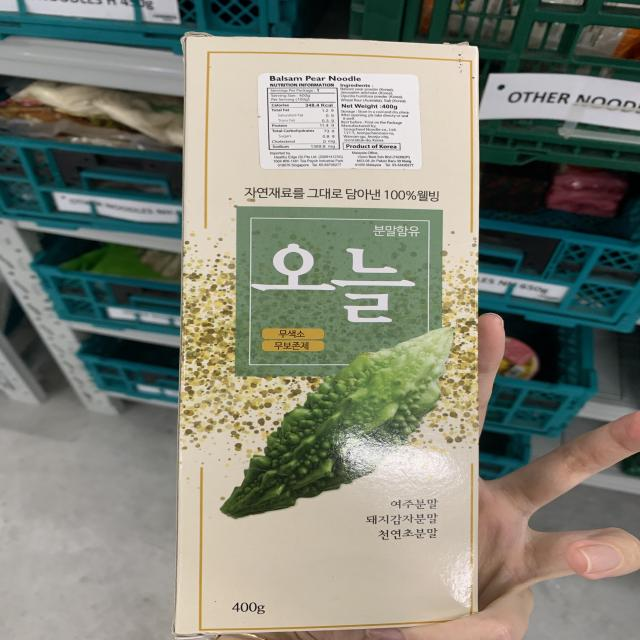object_name: (197, 49, 457, 622)
